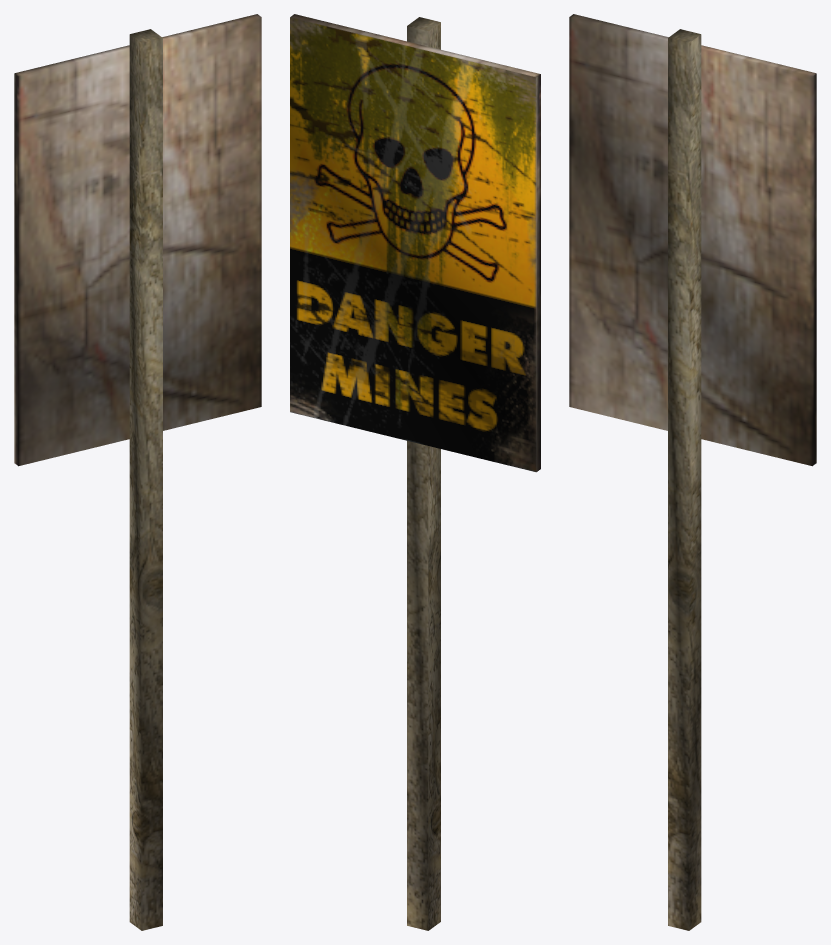
File: Deco.WarnSign.fbx
3 renders of one model, left to right at view 1: azimuth 30°, elevation 25°; view 2: azimuth 150°, elevation 25°; view 3: azimuth 330°, elevation 25°, orthographic.
Parts seen in each view (by area): view 1: WarningSign; view 2: WarningSign; view 3: WarningSign.
Part boxes in pixels (box(x1,y1,x2,y2)): WarningSign: box(14, 14, 261, 930); WarningSign: box(290, 14, 540, 930); WarningSign: box(569, 14, 816, 930).
Size of the model in its own units: 21.67 by 75.6 by 2.57.
